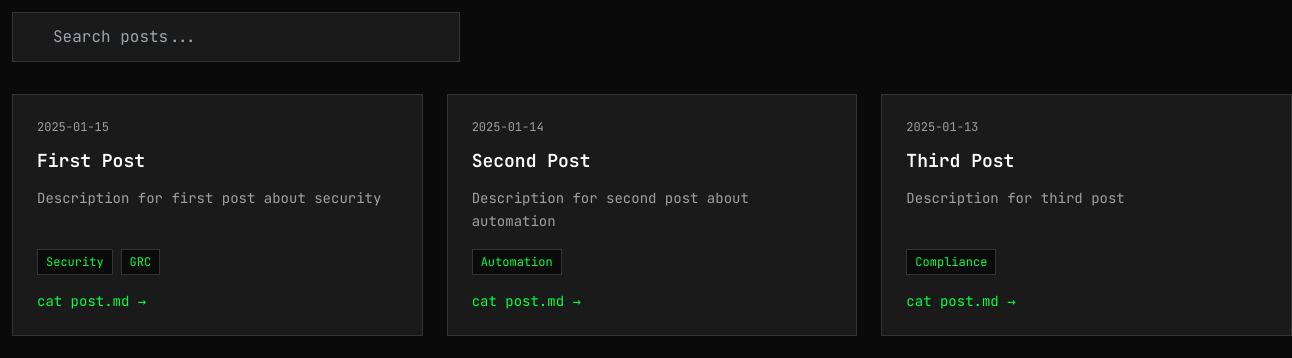
BlogList Component › should filter posts by title
Type "First" into the field with placeholder "Search posts..." at (236, 37), box left=12, top=12, right=460, bottom=62
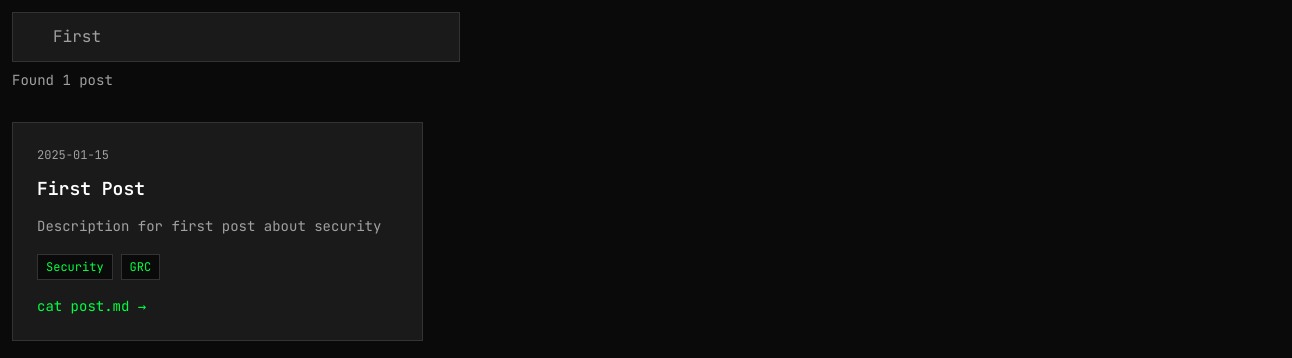
expect the heading "First Post" is shown: met, box left=37, top=177, right=145, bottom=200
expect the link "Second Post" is gone: met
